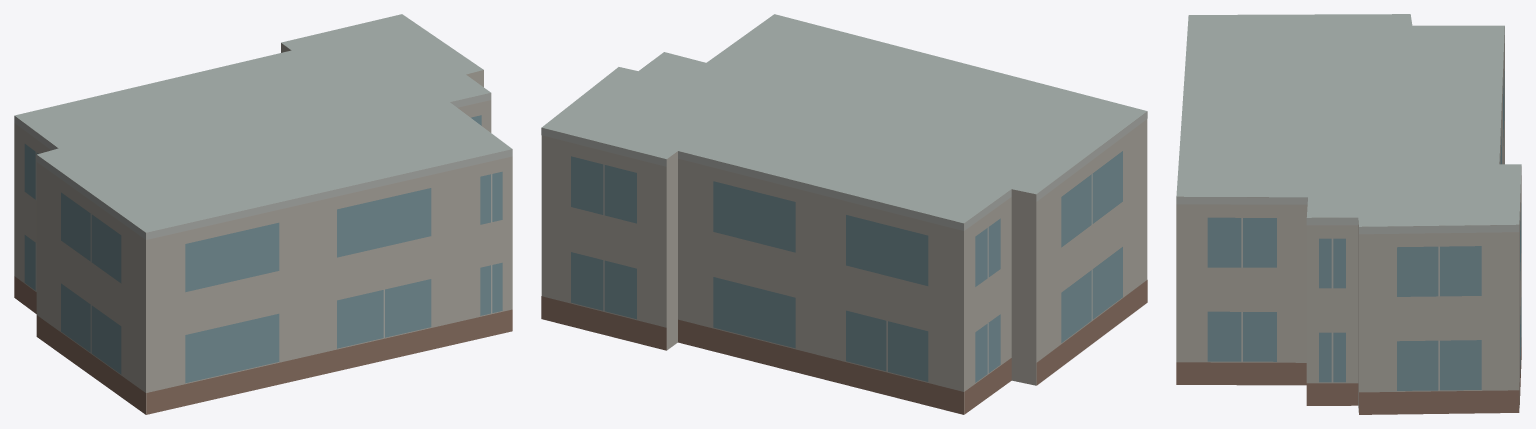
File: survey-upis-32661393.glb
3 renders of one model, left to right at view 1: azimuth 30°, elevation 25°; view 2: azimuth 150°, elevation 25°; view 3: azimuth 270°, elevation 25°, orthographic. The views are drawn at different scales.
Parts seen in each view (by area): view 1: survey-upis-32661393.tmp; view 2: survey-upis-32661393.tmp; view 3: survey-upis-32661393.tmp.
Boxes of the visible parts, x1,y1,x2,y2 form: survey-upis-32661393.tmp: (14, 14, 512, 414); survey-upis-32661393.tmp: (541, 14, 1147, 414); survey-upis-32661393.tmp: (1176, 14, 1521, 414).
Bounding box in the file's own units: 14.81 × 6.1 × 10.16.
